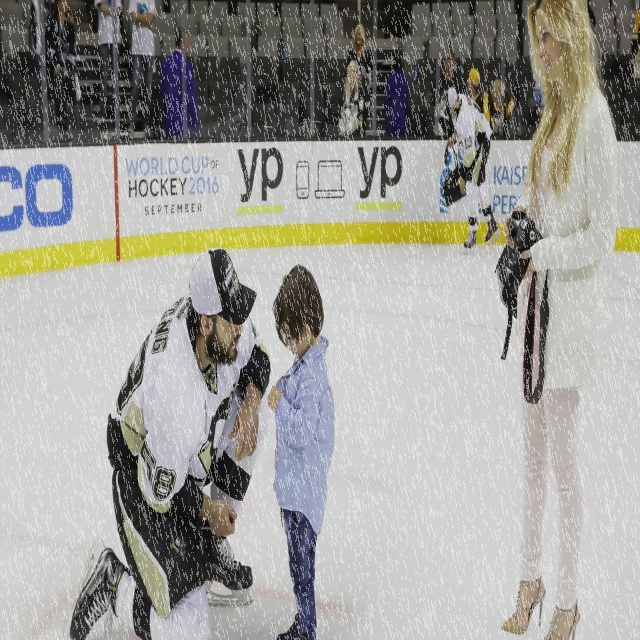pessoa: (63, 235, 275, 640), (495, 0, 625, 639), (263, 260, 340, 640), (438, 85, 504, 256), (45, 0, 78, 144), (160, 27, 200, 142), (126, 0, 158, 140), (92, 0, 124, 123), (345, 21, 373, 139), (431, 46, 462, 136), (384, 46, 410, 138), (337, 59, 367, 138), (482, 78, 516, 140), (627, 0, 639, 140), (22, 0, 46, 64), (466, 67, 491, 124), (532, 67, 545, 121)
